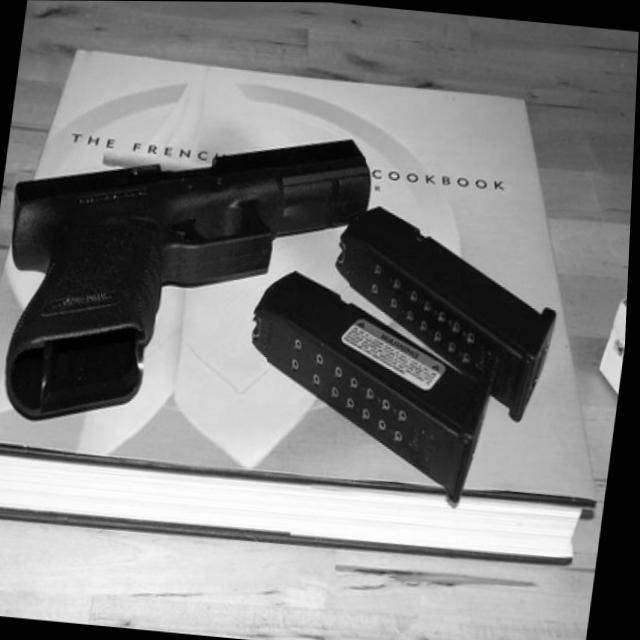weapon: (0, 103, 383, 450)
